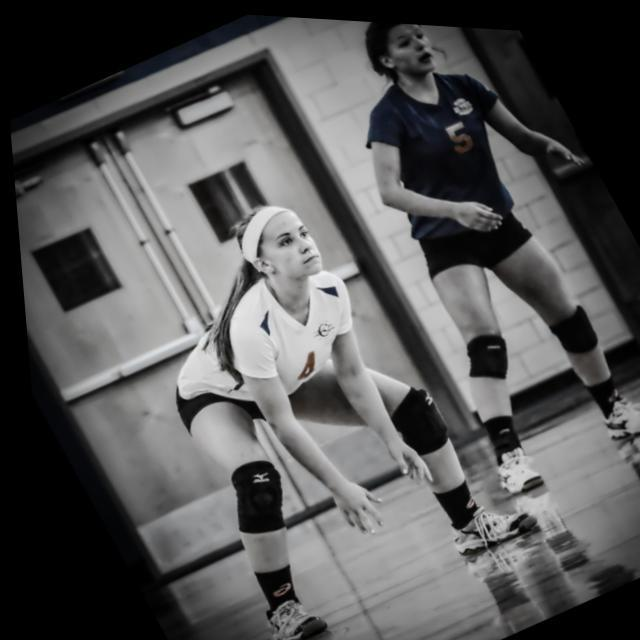Nonhelmet: (225, 193, 332, 291), (358, 13, 447, 87)
